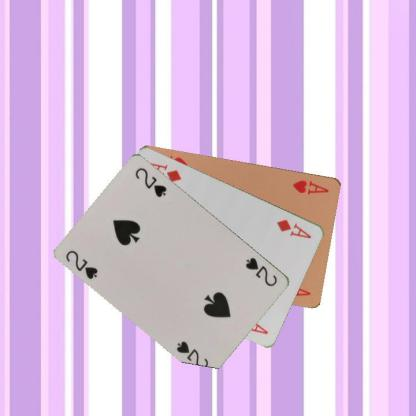2s: (243, 254, 279, 288), (63, 247, 99, 281)
Ad: (275, 216, 313, 240)
Ah: (290, 177, 330, 196)
